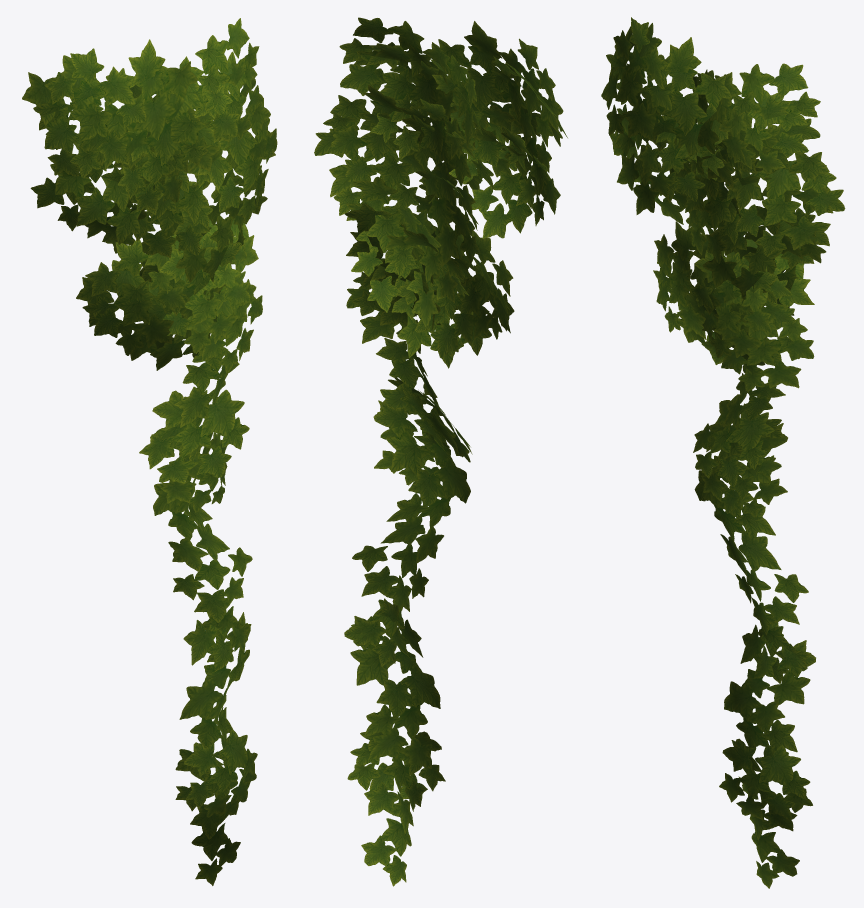
The model's file is SM_fwOF_IvyGroup_09.fbx.
3 views of the same model, side by side, from view 1: azimuth 30°, elevation 25°; view 2: azimuth 150°, elevation 25°; view 3: azimuth 330°, elevation 25° (orthographic). The views are drawn at different scales.
Parts seen in each view (by area): view 1: SM_fwOF_IvyGroup_09_LOD0; view 2: SM_fwOF_IvyGroup_09_LOD0; view 3: SM_fwOF_IvyGroup_09_LOD0.
Part boxes in pixels (x1,y1,x2,y2): SM_fwOF_IvyGroup_09_LOD0: (22,18,277,885); SM_fwOF_IvyGroup_09_LOD0: (314,17,567,886); SM_fwOF_IvyGroup_09_LOD0: (601,17,845,888).
Size of what is drawn, in the model's own units: 1.35 by 4.43 by 0.4822.
